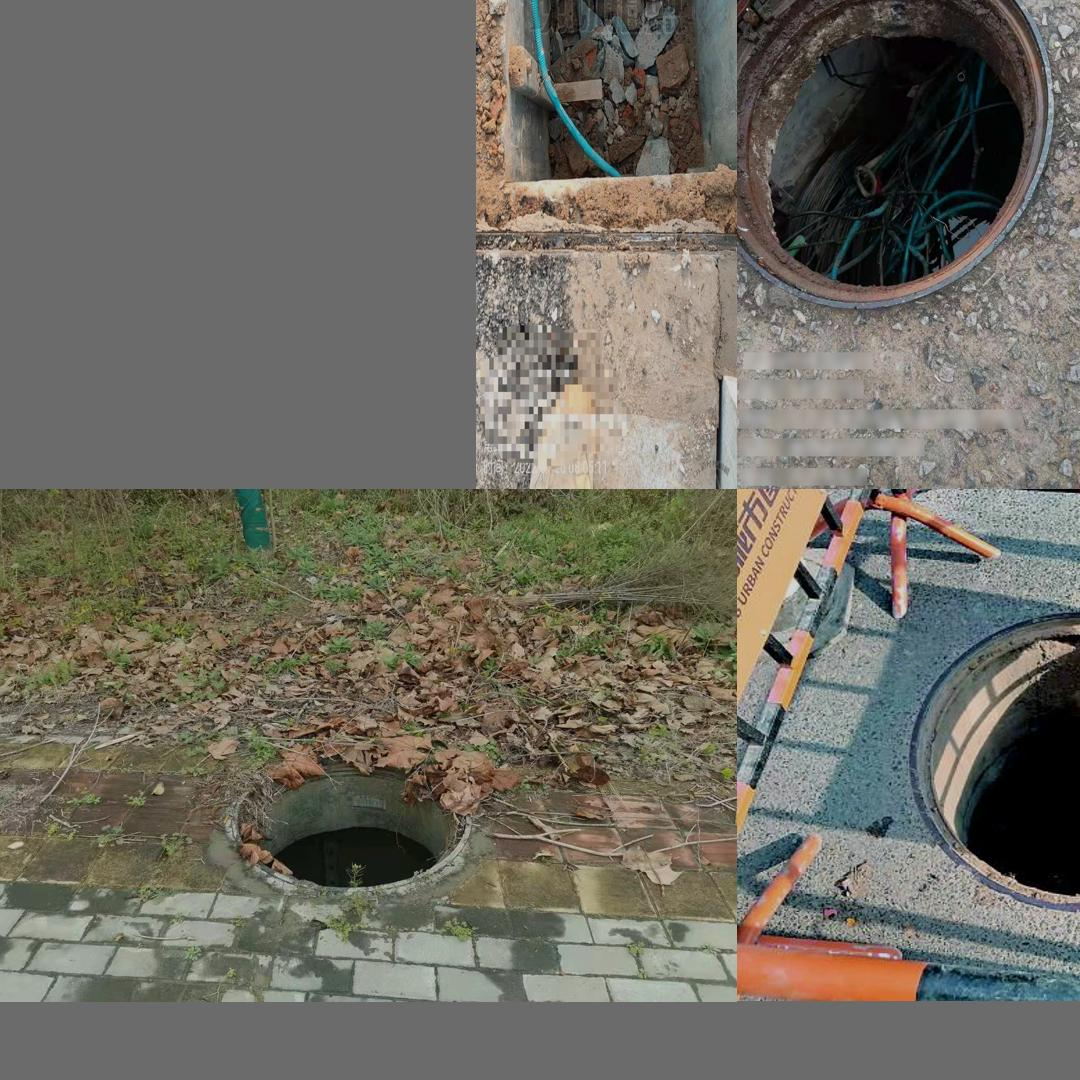lose: (739, 0, 1053, 313), (479, 0, 736, 279), (899, 607, 1080, 910), (228, 758, 473, 887)
